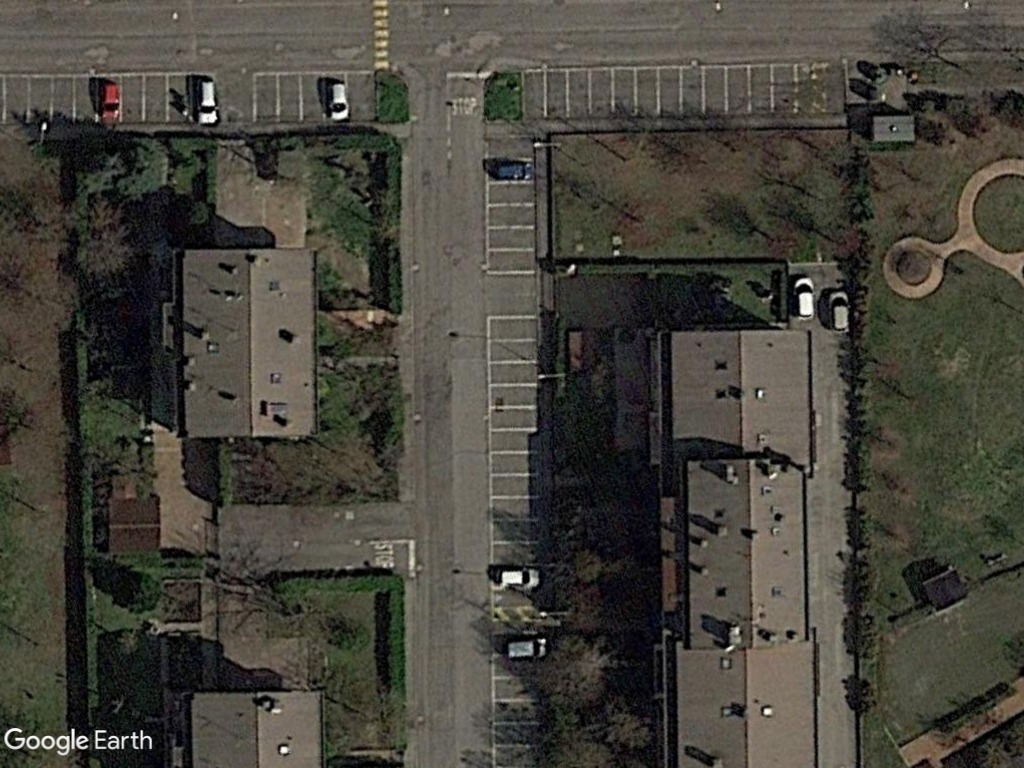car: (318, 72, 354, 126), (194, 74, 225, 130), (488, 564, 544, 593), (790, 271, 820, 325), (501, 634, 555, 663), (825, 288, 856, 334), (97, 78, 126, 126), (486, 159, 540, 182)
